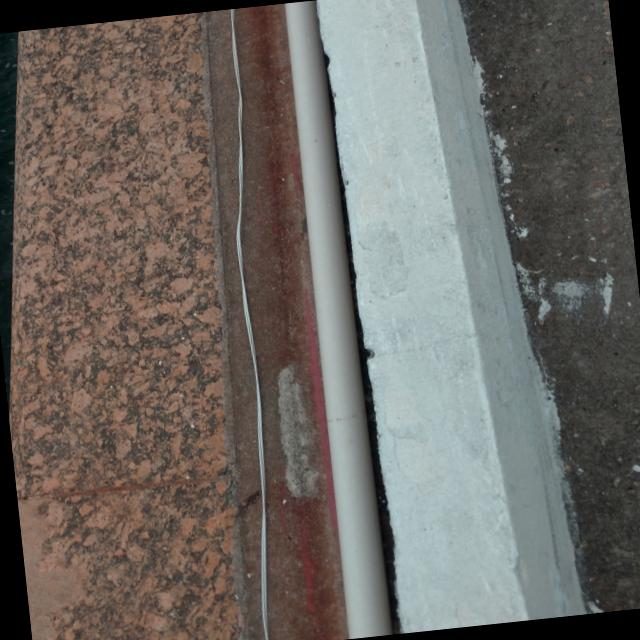gas: (278, 0, 399, 639)
